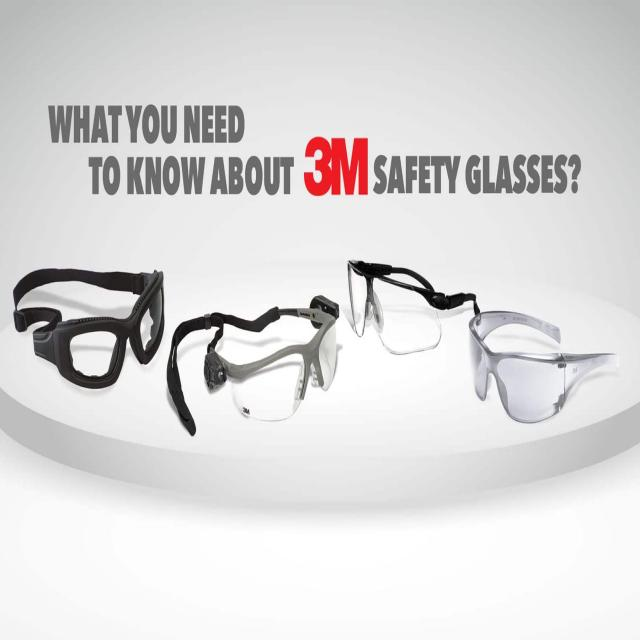Protective Glasses: (165, 288, 339, 460), (468, 291, 625, 447), (7, 250, 166, 403), (339, 242, 465, 361)
